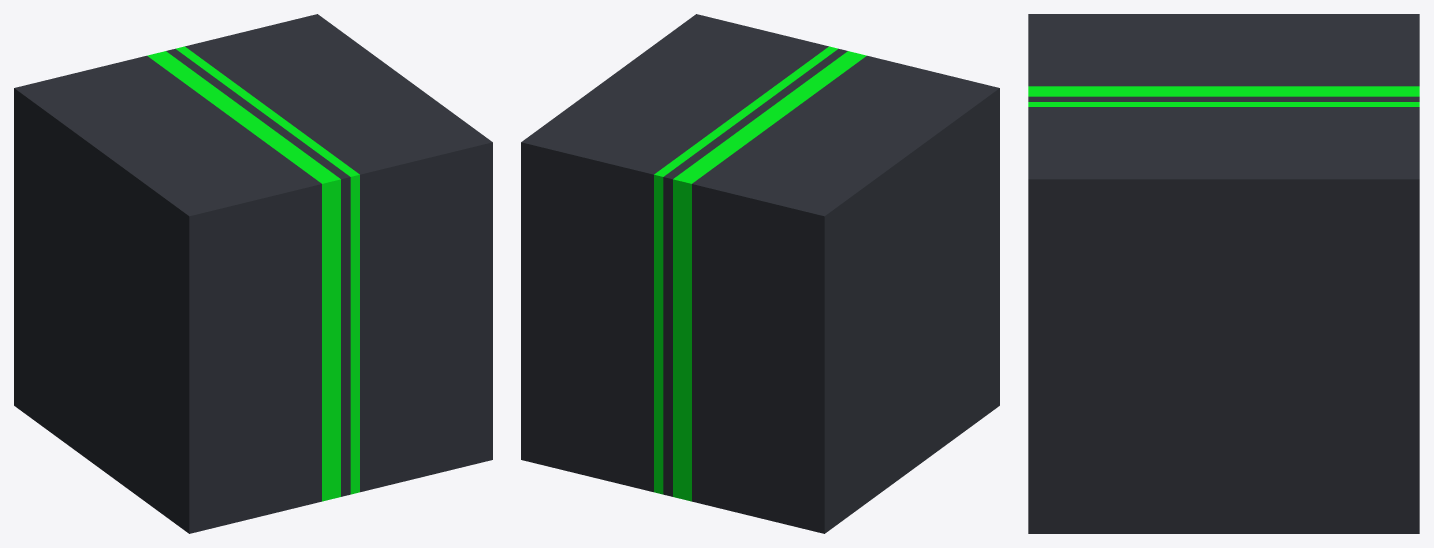
File: tile02.obj
3 renders of one model, left to right at view 1: azimuth 30°, elevation 25°; view 2: azimuth 150°, elevation 25°; view 3: azimuth 270°, elevation 25°, orthographic. The views are drawn at different scales.
Size of the model in its own units: 32 by 32 by 32.
1 material, 1 textured.
